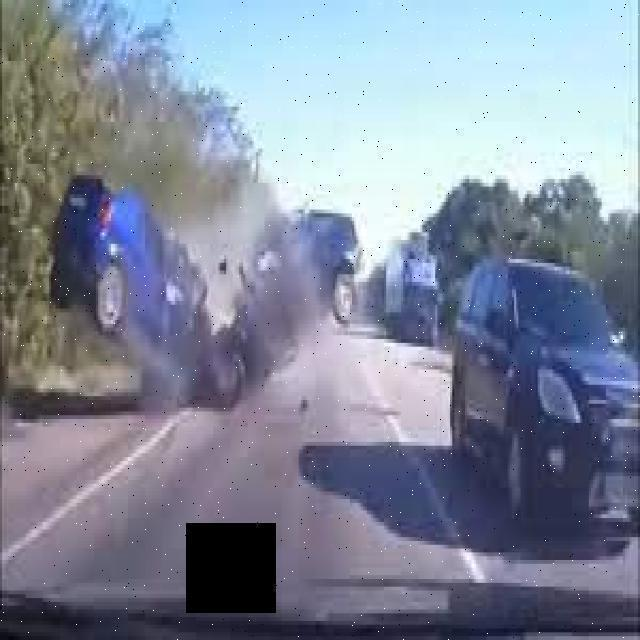accident: (47, 158, 369, 413)
